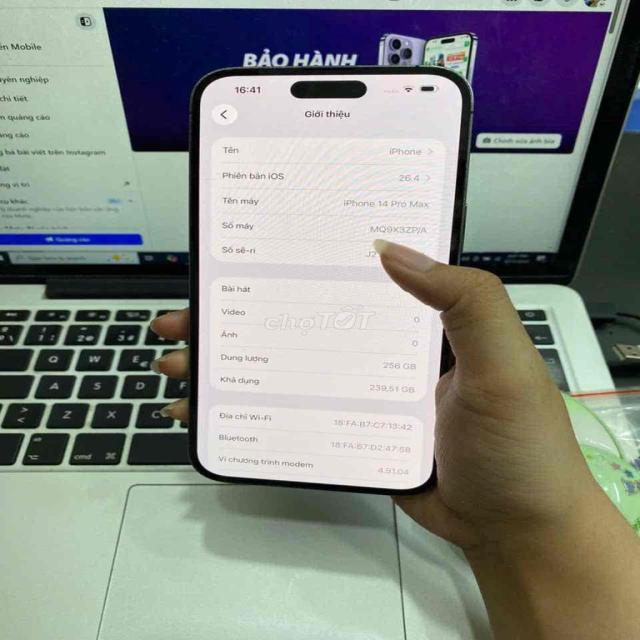gen_14: (170, 62, 456, 502)
